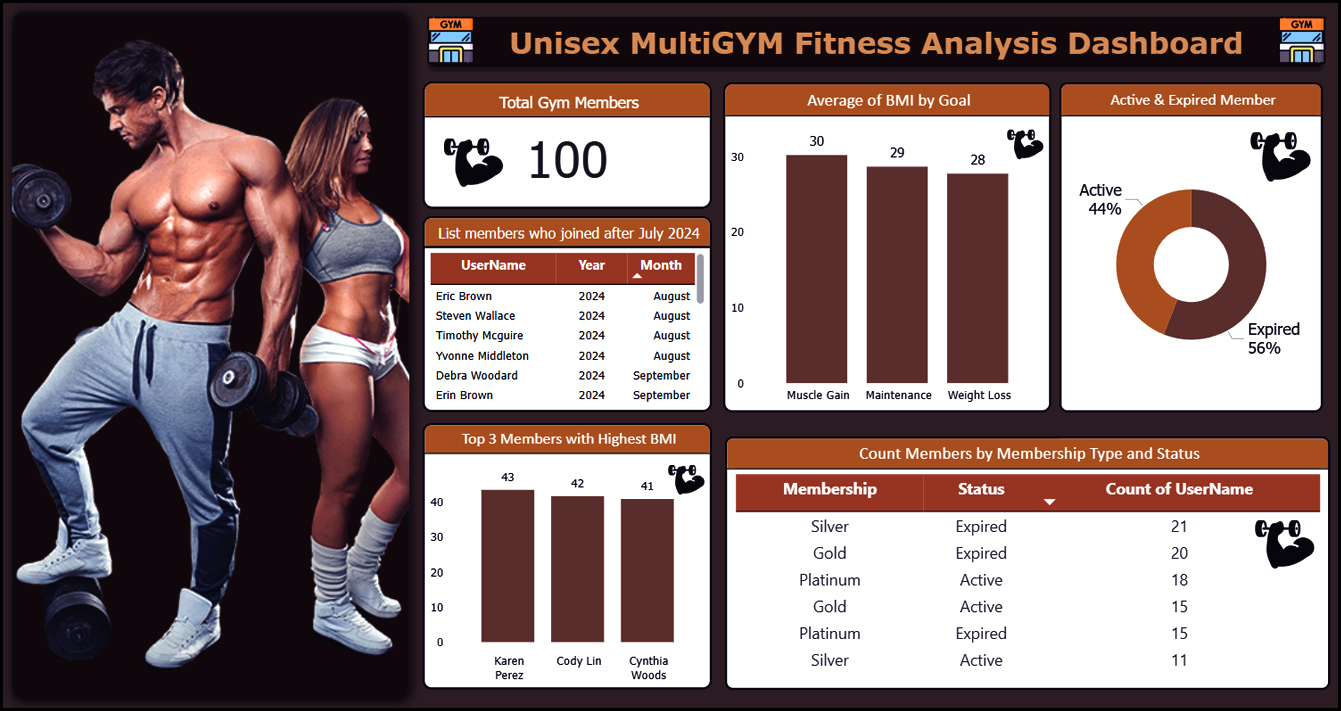

The dashboard page shown, as its layout file describes it:
{"tool":"powerbi","page":{"name":"Page 1","canvas":[1350,720],"ordinal":0},"visuals":[{"type":"shape","box":[0,0,426.2,720],"z":0},{"type":"image","box":[8.2,13.3,410.2,694.9],"z":1000},{"type":"shape","box":[426.5,13.3,913.3,60.2],"z":2000},{"type":"card","title":"Total Gym Members","fields":{"Values":["CountNonNull(fitness_data.UserName)"]},"box":[426.5,83.7,290.8,127.6],"z":3000},{"type":"tableEx","title":"List members who joined after July 2024","fields":{"Values":["fitness_data.UserName","fitness_data.JoinDate.Variation.Date Hierarchy.Year","fitness_data.JoinDate.Variation.Date Hierarchy.Month"]},"box":[426.5,219.4,290.8,196.9],"z":4000},{"type":"columnChart","fields":{"Category":["fitness_data.Goal"],"Y":["Avg(fitness_data.BMI)"]},"box":[728.6,84.7,329.6,331.6],"z":5000},{"type":"columnChart","title":"Top 3 Members with Highest BMI","fields":{"Category":["fitness_data.UserName"],"Y":["Max(fitness_data.BMI)"]},"box":[426.5,427.6,290.8,268.4],"z":6000},{"type":"tableEx","title":"Count Members by Membership Type and Status","fields":{"Values":["fitness_data.Membership","fitness_data.Status","fitness_data.UserName"]},"box":[730.6,440.8,609.2,255.1],"z":7000},{"type":"donutChart","title":"Active & Expired Member","fields":{"Category":["fitness_data.Status"],"Y":["CountNonNull(fitness_data.Membership)"]},"box":[1067.3,84.7,265.3,331.6],"z":8000},{"type":"image","box":[426.5,13.3,57.1,57.1],"z":9000},{"type":"image","box":[1282.7,13.3,57.1,57.1],"z":10000},{"type":"image","box":[433.6,126.6,86.2,77.2],"z":11000},{"type":"image","box":[1250,120.4,79.6,77.6],"z":12000},{"type":"image","box":[666.3,458.2,51,52],"z":13000},{"type":"image","box":[1007.1,120.4,51,52],"z":14000},{"type":"image","box":[1253.3,510.5,80,77.1],"z":15000}]}

Visuals, with their boxes in screenshot pixels (x1, y1, x2, y2), scaled from the page's 1350x720 canvas onto the 1341x711 screenshot:
shape: [0,0,423,710]
image: [8,13,416,699]
shape: [424,13,1331,73]
"Total Gym Members" card: [424,83,713,209]
"List members who joined after July 2024" tableEx: [424,217,713,411]
columnChart - fitness_data.Goal x Avg(fitness_data.BMI): [724,84,1051,411]
"Top 3 Members with Highest BMI" columnChart: [424,422,713,687]
"Count Members by Membership Type and Status" tableEx: [726,435,1331,687]
"Active & Expired Member" donutChart: [1060,84,1324,411]
image: [424,13,480,70]
image: [1274,13,1331,70]
image: [431,125,516,201]
image: [1242,119,1321,196]
image: [662,452,713,504]
image: [1000,119,1051,170]
image: [1245,504,1324,580]
